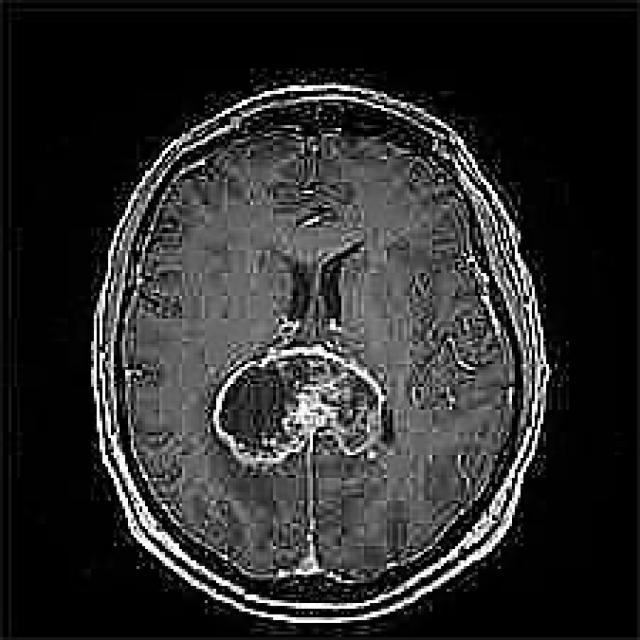Tumor-Cell: (210, 334, 400, 462)
